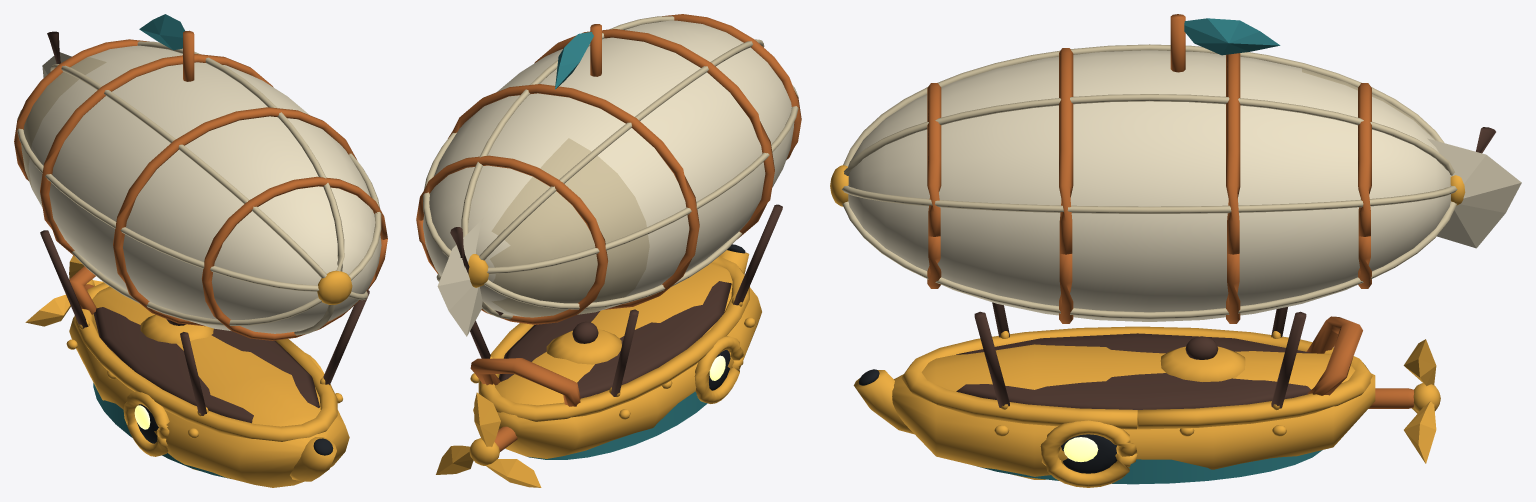
The model's file is copperskiff.glb.
3 views of the same model, side by side, from view 1: azimuth 30°, elevation 25°; view 2: azimuth 150°, elevation 25°; view 3: azimuth 270°, elevation 25° (orthographic). The views are drawn at different scales.
Parts seen in each view (by area): view 1: ME_20261020_copperskiff_sewn_canvas_envelope, ME_20261020_copperskiff_copper_kettle_shell, ME_20261020_copperskiff_wood_deck, ME_20261020_copperskiff_copper_gunwale, ME_20261020_copperskiff_copper_balloon_hoop_1, ME_20261020_copperskiff_copper_balloon_hoop_0, ME_20261020_copperskiff_copper_balloon_hoop_2, ME_20261020_copperskiff_canvas_seam_3, ME_20261020_copperskiff_canvas_seam_2, ME_20261020_copperskiff_canvas_seam_1, ME_20261020_copperskiff_left_window_rim, ME_20261020_copperskiff_canvas_seam_4 (+13 smaller); view 2: ME_20261020_copperskiff_sewn_canvas_envelope, ME_20261020_copperskiff_copper_kettle_shell, ME_20261020_copperskiff_wood_deck, ME_20261020_copperskiff_copper_gunwale, ME_20261020_copperskiff_copper_balloon_hoop_2, ME_20261020_copperskiff_copper_balloon_hoop_3, ME_20261020_copperskiff_copper_balloon_hoop_1, ME_20261020_copperskiff_rudder_canvas, ME_20261020_copperskiff_canvas_seam_3, ME_20261020_copperskiff_canvas_seam_2, ME_20261020_copperskiff_kettle_handle, ME_20261020_copperskiff_team_hull_band (+16 smaller); view 3: ME_20261020_copperskiff_sewn_canvas_envelope, ME_20261020_copperskiff_copper_kettle_shell, ME_20261020_copperskiff_copper_gunwale, ME_20261020_copperskiff_wood_deck, ME_20261020_copperskiff_rudder_canvas, ME_20261020_copperskiff_canvas_seam_0, ME_20261020_copperskiff_canvas_seam_1, ME_20261020_copperskiff_canvas_seam_6, ME_20261020_copperskiff_copper_balloon_hoop_1, ME_20261020_copperskiff_canvas_seam_2, ME_20261020_copperskiff_copper_balloon_hoop_2, ME_20261020_copperskiff_right_window_rim (+14 smaller).
Boxes of the visible parts, x1,y1,x2,y2 form: ME_20261020_copperskiff_sewn_canvas_envelope: [21, 45, 381, 333]; ME_20261020_copperskiff_copper_kettle_shell: [69, 286, 349, 487]; ME_20261020_copperskiff_wood_deck: [93, 307, 319, 423]; ME_20261020_copperskiff_copper_gunwale: [74, 282, 337, 441]; ME_20261020_copperskiff_copper_balloon_hoop_1: [113, 107, 357, 326]; ME_20261020_copperskiff_copper_balloon_hoop_0: [201, 176, 387, 340]; ME_20261020_copperskiff_copper_balloon_hoop_2: [40, 54, 273, 256]; ME_20261020_copperskiff_canvas_seam_3: [17, 110, 318, 291]; ME_20261020_copperskiff_canvas_seam_2: [50, 64, 326, 278]; ME_20261020_copperskiff_canvas_seam_1: [137, 41, 344, 271]; ME_20261020_copperskiff_left_window_rim: [123, 391, 169, 456]; ME_20261020_copperskiff_canvas_seam_4: [72, 250, 321, 325]; ME_20261020_copperskiff_sewn_canvas_envelope: [423, 20, 794, 317]; ME_20261020_copperskiff_copper_kettle_shell: [473, 262, 761, 458]; ME_20261020_copperskiff_wood_deck: [498, 281, 731, 398]; ME_20261020_copperskiff_copper_gunwale: [478, 256, 749, 421]; ME_20261020_copperskiff_copper_balloon_hoop_2: [448, 84, 699, 309]; ME_20261020_copperskiff_copper_balloon_hoop_3: [416, 155, 607, 324]; ME_20261020_copperskiff_copper_balloon_hoop_1: [534, 29, 774, 239]; ME_20261020_copperskiff_rudder_canvas: [437, 218, 483, 336]; ME_20261020_copperskiff_canvas_seam_3: [487, 85, 798, 274]; ME_20261020_copperskiff_canvas_seam_2: [479, 39, 764, 260]; ME_20261020_copperskiff_kettle_handle: [470, 358, 580, 406]; ME_20261020_copperskiff_team_hull_band: [527, 391, 707, 459]; ME_20261020_copperskiff_sewn_canvas_envelope: [848, 50, 1450, 321]; ME_20261020_copperskiff_copper_kettle_shell: [892, 344, 1375, 479]; ME_20261020_copperskiff_copper_gunwale: [901, 326, 1372, 429]; ME_20261020_copperskiff_wood_deck: [956, 333, 1312, 409]; ME_20261020_copperskiff_rudder_canvas: [1427, 138, 1521, 248]; ME_20261020_copperskiff_canvas_seam_0: [842, 185, 1457, 213]; ME_20261020_copperskiff_canvas_seam_1: [844, 94, 1454, 175]; ME_20261020_copperskiff_canvas_seam_6: [842, 201, 1456, 319]; ME_20261020_copperskiff_copper_balloon_hoop_1: [1059, 48, 1073, 323]; ME_20261020_copperskiff_canvas_seam_2: [843, 44, 1444, 166]; ME_20261020_copperskiff_copper_balloon_hoop_2: [1226, 53, 1240, 323]; ME_20261020_copperskiff_right_window_rim: [1040, 420, 1137, 487].
Size of the model in its own units: 0.651 by 0.9743 by 1.37.
